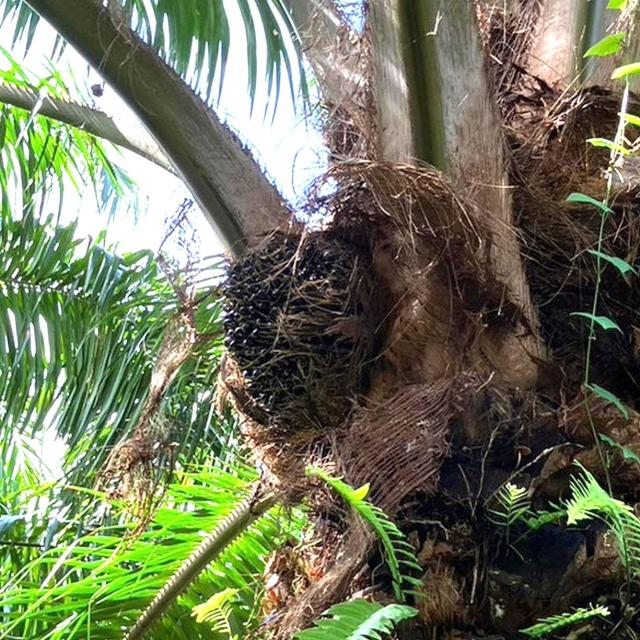unripe: (204, 216, 385, 452)
